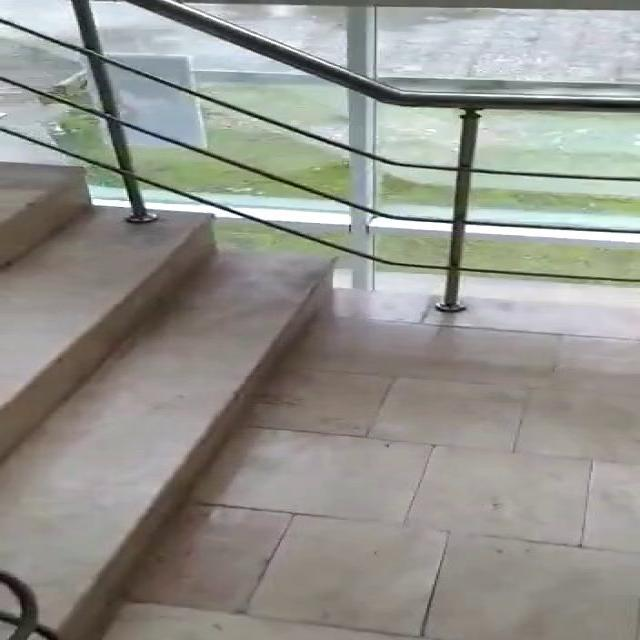stair: (1, 186, 366, 640)
